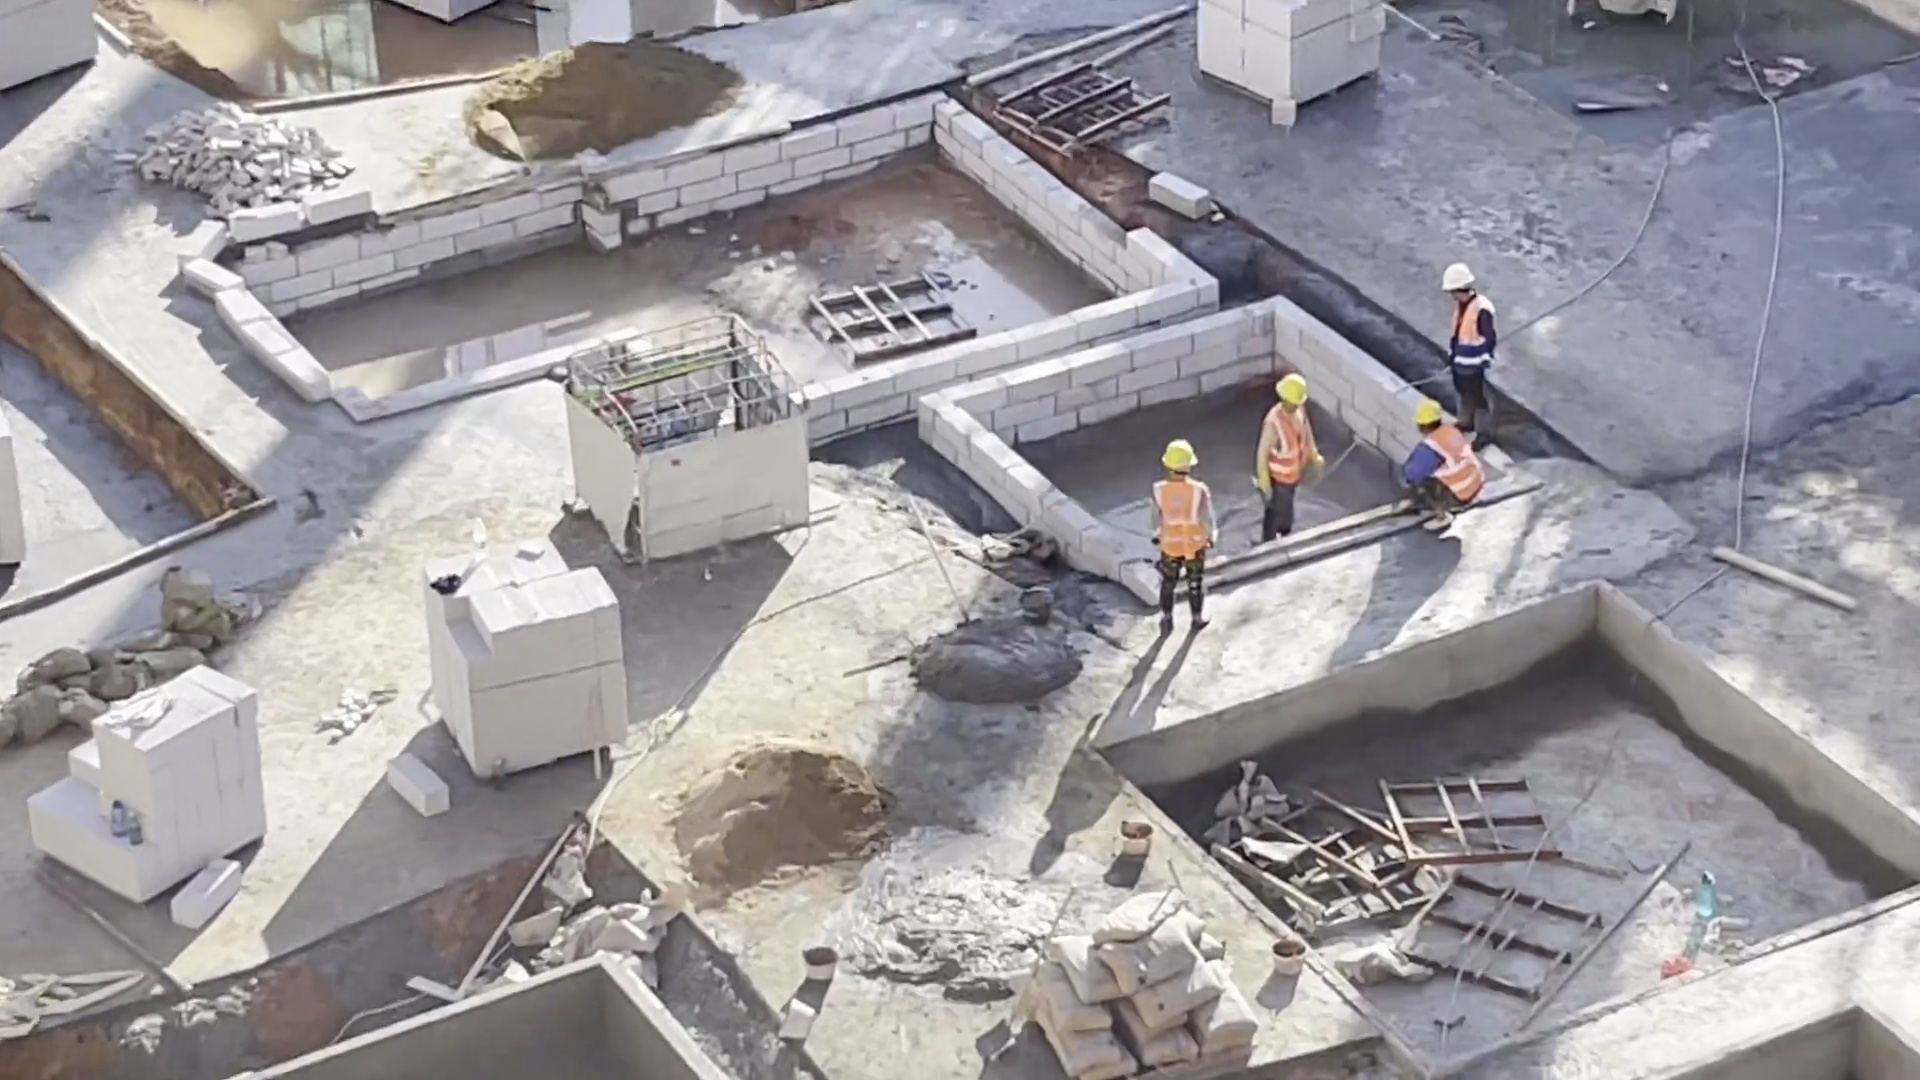helmet: (1271, 359, 1309, 405), (1431, 257, 1479, 293), (1152, 437, 1200, 472), (1412, 400, 1442, 427)
person: (1133, 437, 1220, 630), (1377, 404, 1489, 538), (1436, 253, 1496, 461), (1254, 365, 1312, 527)
vest: (1149, 472, 1215, 563), (1253, 407, 1316, 490), (1416, 438, 1487, 502), (1456, 300, 1494, 367)
